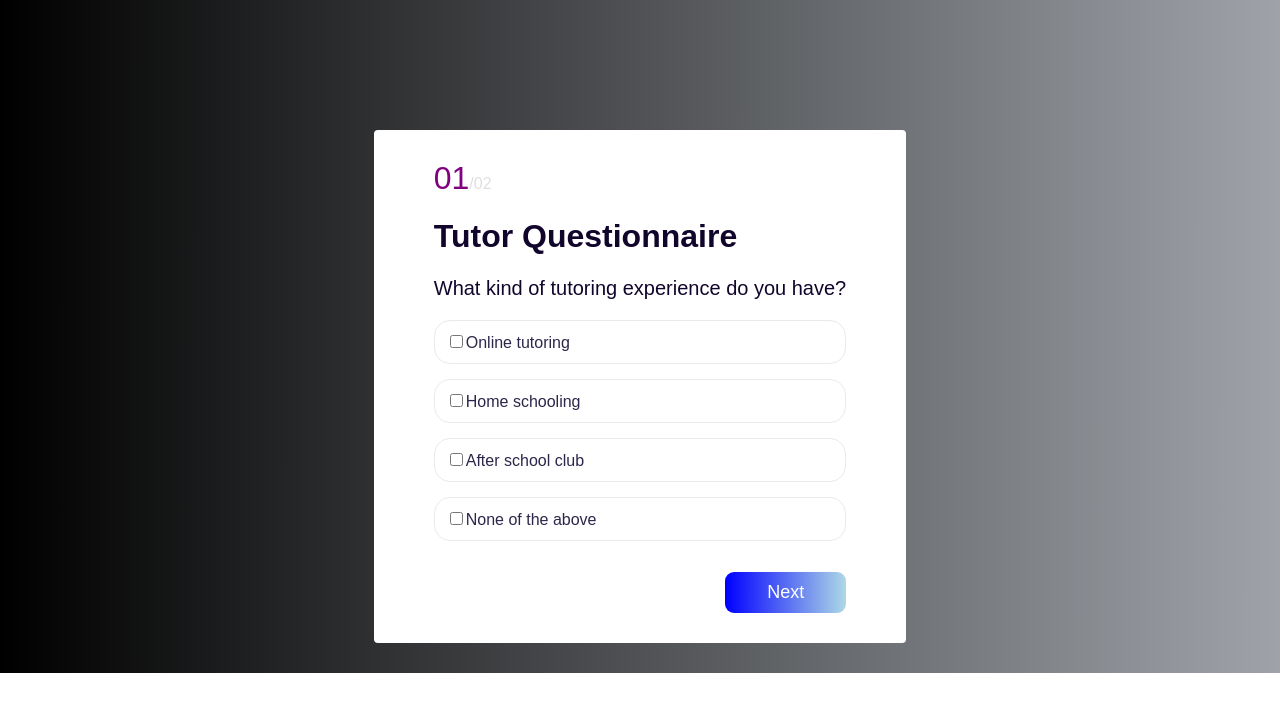
Scenario: App component › Button has correct initial color
This screenshot has width=1280, height=720.
// Click button
Click the button "Next": (786, 592) [725,572,846,613]
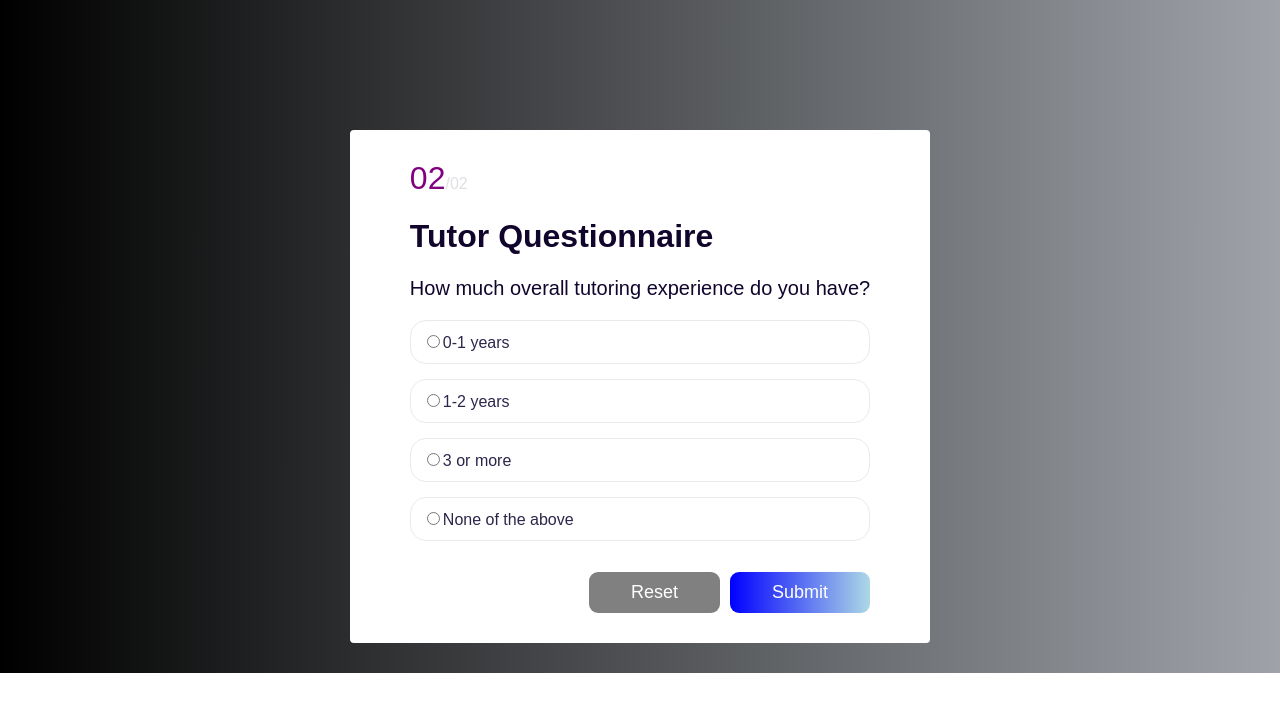
Expected: the button named "Next" reads "Submit", [730,572,870,613]
